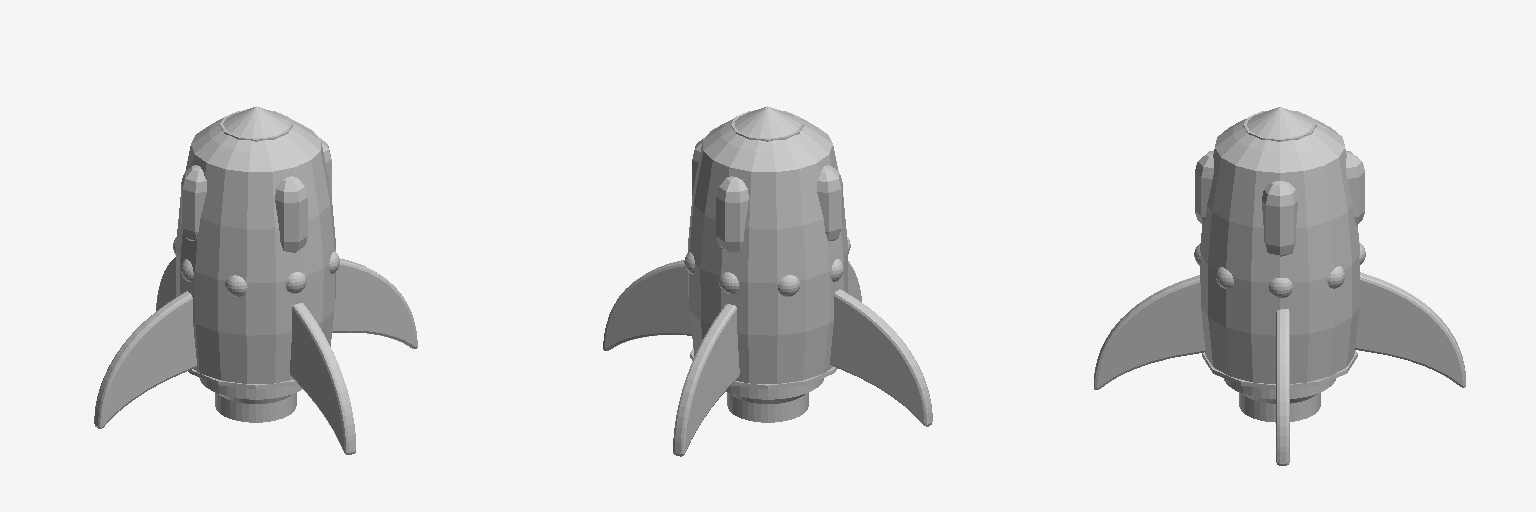
Rendered from rocketmat.obj.
3 views of the same model, side by side, from view 1: azimuth 30°, elevation 25°; view 2: azimuth 150°, elevation 25°; view 3: azimuth 270°, elevation 25° (orthographic).
Parts seen in each view (by area): view 1: CUPIC_ROCKETSHIP.050, CUPIC_ROCKETSHIP, CUPIC_ROCKETSHIP.046, CUPIC_ROCKETSHIP.038, CUPIC_ROCKETSHIP.043, CUPIC_ROCKETSHIP.009, CUPIC_ROCKETSHIP.026, CUPIC_ROCKETSHIP.010, CUPIC_ROCKETSHIP.039, CUPIC_ROCKETSHIP.045, CUPIC_ROCKETSHIP.022, CUPIC_ROCKETSHIP.042 (+3 smaller); view 2: CUPIC_ROCKETSHIP.050, CUPIC_ROCKETSHIP, CUPIC_ROCKETSHIP.048, CUPIC_ROCKETSHIP.036, CUPIC_ROCKETSHIP.031, CUPIC_ROCKETSHIP.011, CUPIC_ROCKETSHIP.026, CUPIC_ROCKETSHIP.010, CUPIC_ROCKETSHIP.047, CUPIC_ROCKETSHIP.029, CUPIC_ROCKETSHIP.022, CUPIC_ROCKETSHIP.030 (+2 smaller); view 3: CUPIC_ROCKETSHIP.050, CUPIC_ROCKETSHIP, CUPIC_ROCKETSHIP.041, CUPIC_ROCKETSHIP.033, CUPIC_ROCKETSHIP.012, CUPIC_ROCKETSHIP.026, CUPIC_ROCKETSHIP.011, CUPIC_ROCKETSHIP.009, CUPIC_ROCKETSHIP.034, CUPIC_ROCKETSHIP.040, CUPIC_ROCKETSHIP.032, CUPIC_ROCKETSHIP.022 (+3 smaller).
Boxes of the visible parts, x1=… form: CUPIC_ROCKETSHIP.050: x1=176, y1=142, x2=335, y2=383; CUPIC_ROCKETSHIP: x1=191, y1=106, x2=320, y2=171; CUPIC_ROCKETSHIP.046: x1=102, y1=298, x2=196, y2=426; CUPIC_ROCKETSHIP.038: x1=332, y1=265, x2=415, y2=346; CUPIC_ROCKETSHIP.043: x1=290, y1=308, x2=343, y2=450; CUPIC_ROCKETSHIP.009: x1=275, y1=176, x2=307, y2=252; CUPIC_ROCKETSHIP.026: x1=215, y1=392, x2=296, y2=422; CUPIC_ROCKETSHIP.010: x1=181, y1=165, x2=206, y2=240; CUPIC_ROCKETSHIP.039: x1=296, y1=303, x2=354, y2=454; CUPIC_ROCKETSHIP.045: x1=98, y1=294, x2=196, y2=428; CUPIC_ROCKETSHIP.022: x1=200, y1=378, x2=301, y2=399; CUPIC_ROCKETSHIP.042: x1=290, y1=304, x2=348, y2=454; CUPIC_ROCKETSHIP.050: x1=688, y1=142, x2=847, y2=383; CUPIC_ROCKETSHIP: x1=703, y1=106, x2=832, y2=171; CUPIC_ROCKETSHIP.048: x1=830, y1=296, x2=924, y2=423; CUPIC_ROCKETSHIP.036: x1=605, y1=266, x2=691, y2=348; CUPIC_ROCKETSHIP.031: x1=685, y1=310, x2=739, y2=452; CUPIC_ROCKETSHIP.011: x1=716, y1=176, x2=748, y2=252; CUPIC_ROCKETSHIP.026: x1=727, y1=392, x2=808, y2=422; CUPIC_ROCKETSHIP.010: x1=817, y1=165, x2=842, y2=240; CUPIC_ROCKETSHIP.047: x1=830, y1=292, x2=928, y2=426; CUPIC_ROCKETSHIP.029: x1=674, y1=304, x2=733, y2=456; CUPIC_ROCKETSHIP.022: x1=726, y1=378, x2=823, y2=399; CUPIC_ROCKETSHIP.030: x1=680, y1=305, x2=739, y2=456; CUPIC_ROCKETSHIP.050: x1=1200, y1=149, x2=1359, y2=383; CUPIC_ROCKETSHIP: x1=1215, y1=107, x2=1344, y2=172; CUPIC_ROCKETSHIP.041: x1=1097, y1=283, x2=1205, y2=387; CUPIC_ROCKETSHIP.033: x1=1355, y1=280, x2=1462, y2=385; CUPIC_ROCKETSHIP.012: x1=1262, y1=181, x2=1297, y2=256; CUPIC_ROCKETSHIP.026: x1=1239, y1=392, x2=1320, y2=422; CUPIC_ROCKETSHIP.011: x1=1346, y1=151, x2=1364, y2=225; CUPIC_ROCKETSHIP.009: x1=1195, y1=151, x2=1213, y2=225; CUPIC_ROCKETSHIP.034: x1=1280, y1=309, x2=1285, y2=465; CUPIC_ROCKETSHIP.040: x1=1094, y1=278, x2=1205, y2=389; CUPIC_ROCKETSHIP.032: x1=1355, y1=275, x2=1465, y2=387; CUPIC_ROCKETSHIP.022: x1=1224, y1=378, x2=1335, y2=399.
Size of the model in its own units: 10.9 by 9.64 by 10.9.